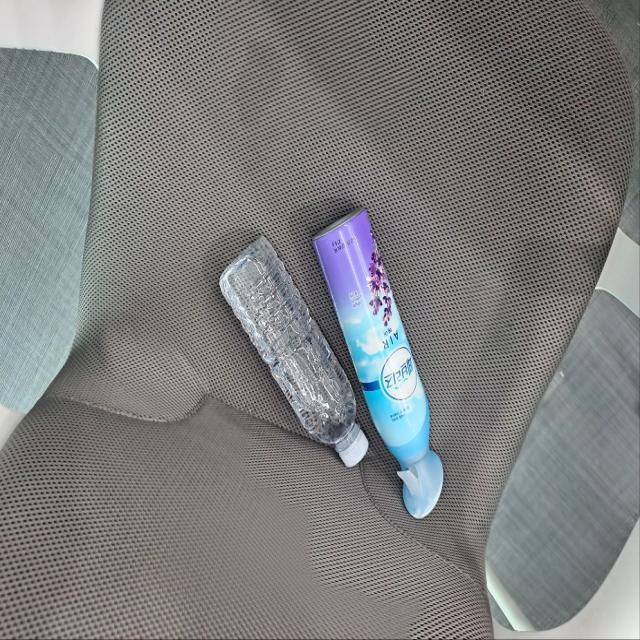spray: (312, 207, 450, 522)
water: (212, 228, 372, 473)
